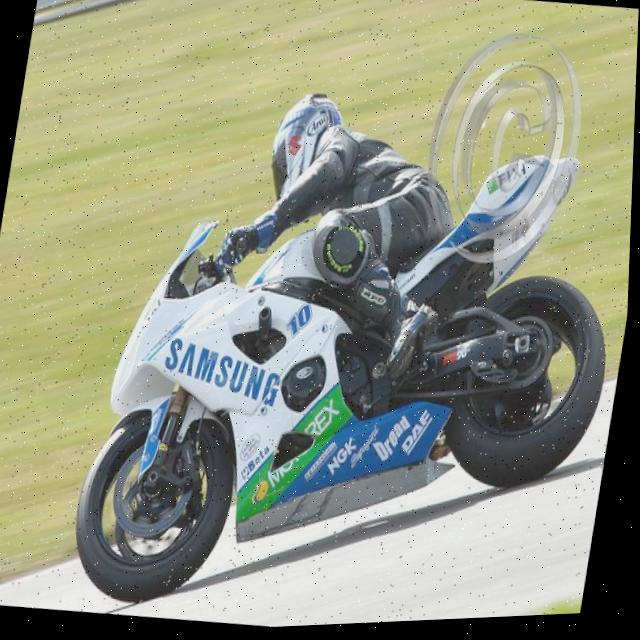motorcycle: (55, 97, 635, 636)
